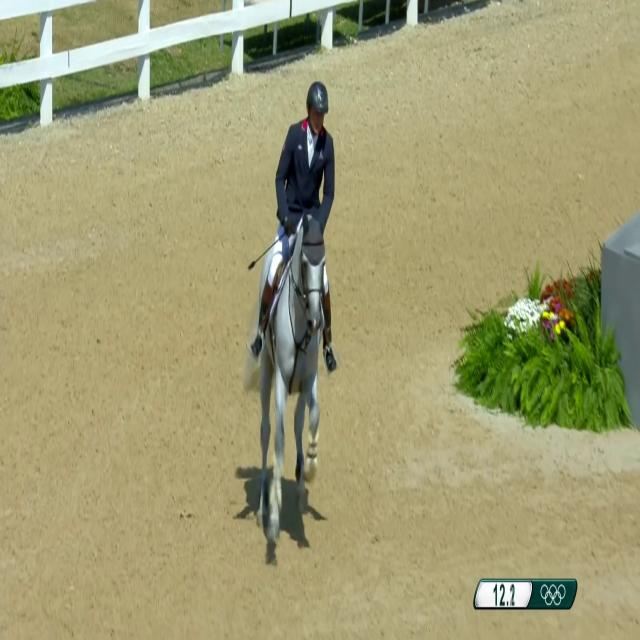Horse Rider: (274, 42, 341, 271)
Horse Running: (239, 183, 343, 562)
